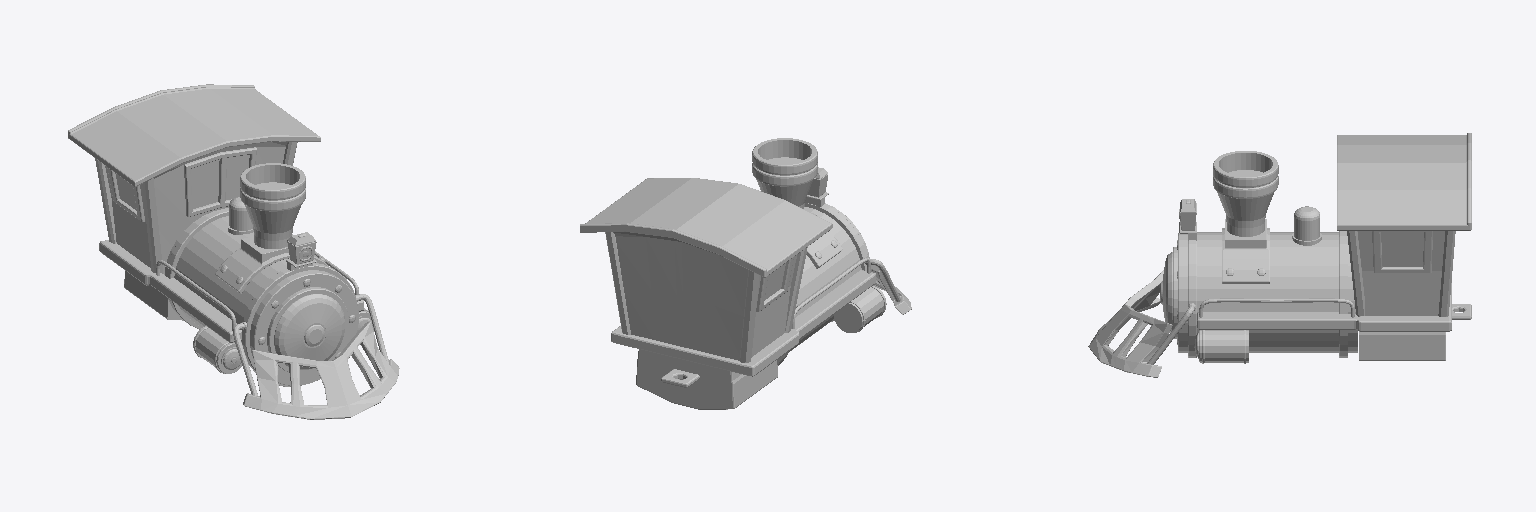
The model's file is SM_train.obj.
3 views of the same model, side by side, from view 1: azimuth 30°, elevation 25°; view 2: azimuth 150°, elevation 25°; view 3: azimuth 270°, elevation 25° (orthographic).
Parts seen in each view (by area): view 1: bar_devant.001; view 2: bar_devant.001; view 3: bar_devant.001.
Part boxes in pixels (bbox=[...]): bar_devant.001: bbox=[68, 84, 399, 419]; bar_devant.001: bbox=[580, 138, 911, 409]; bar_devant.001: bbox=[1088, 133, 1471, 377].
Size of the model in its own units: 5.3 by 5.23 by 9.48.